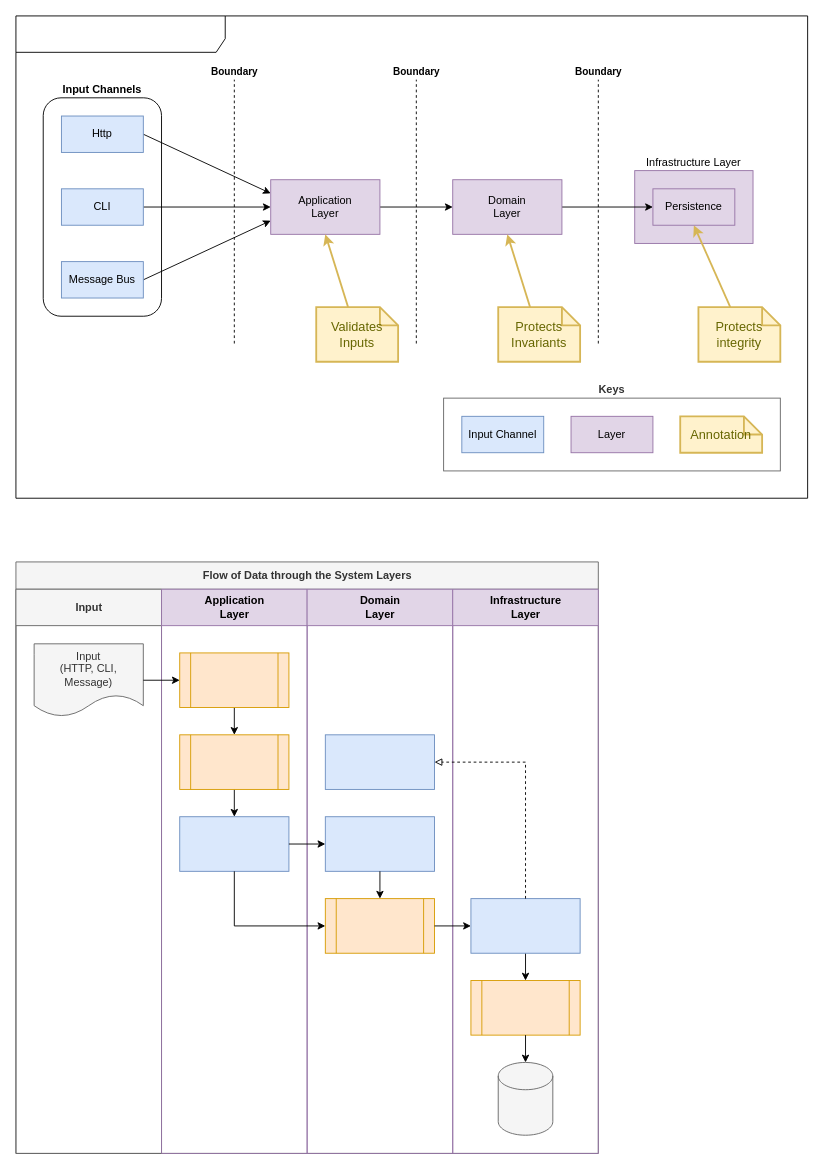
The diagram is 824 pixels wide and 1169 high, and some of its shapes have lost their labels. The centre of each missing label's shape, as x and y in pixels:
"Aggregate protects invariants" goes at (379,925).
"Application Service" goes at (234,843).
"Database" goes at (525,1098).
"Domain Service or Repository" goes at (379,843).
"Maps Aggregate to Persistence (e.g. DBAL entities)" goes at (525,1007).
"Maps Input to a Commands or Queries" goes at (234,761).
"Protection mechanism across the system layers" goes at (411,256).
"Repository (Implementation)" goes at (525,925).
"Repository (Interface)" goes at (379,761).
"Validates Input" goes at (234,680).
